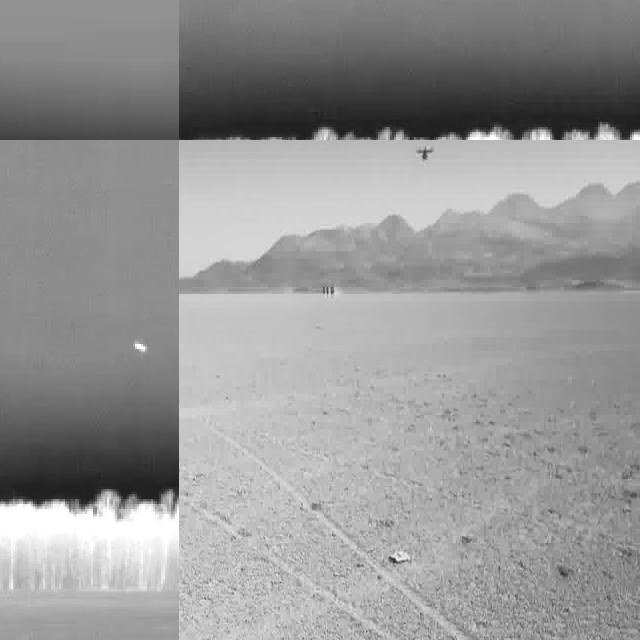1: (129, 339, 159, 359)
drone: (409, 140, 440, 170)
